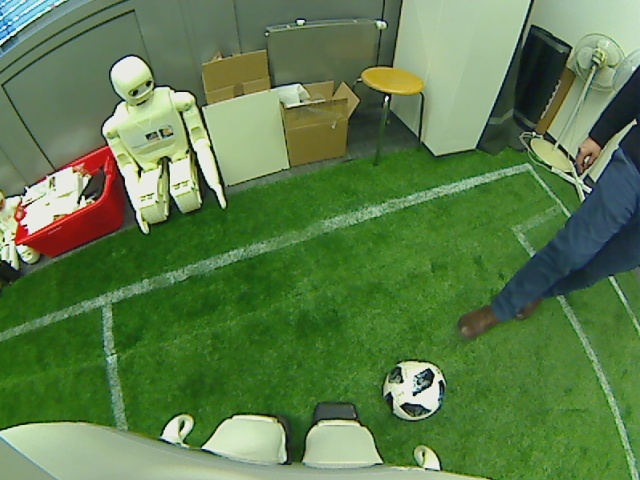ball: (380, 357, 446, 423)
